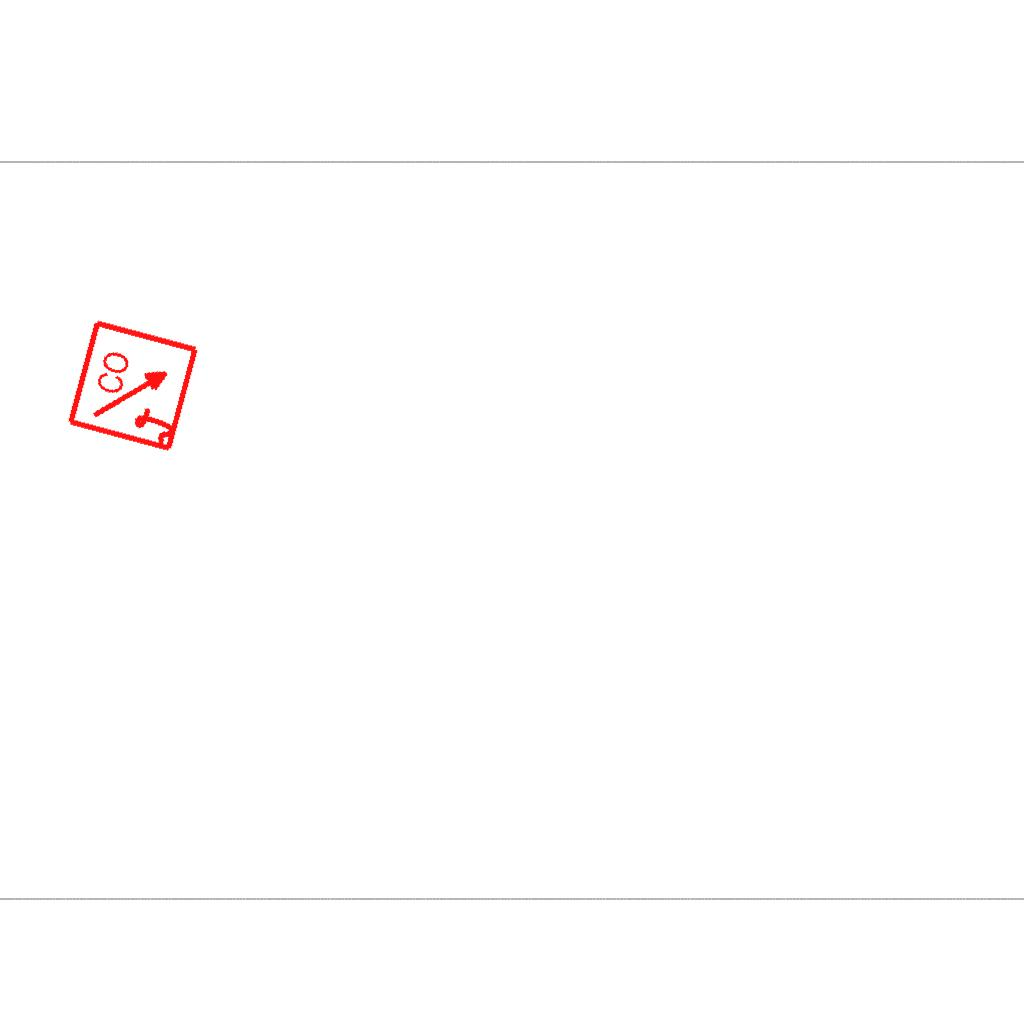ROA_Rauchmelder_optisch_mit_Signalgeber_(Sockelsirene): (65, 316, 204, 455)
